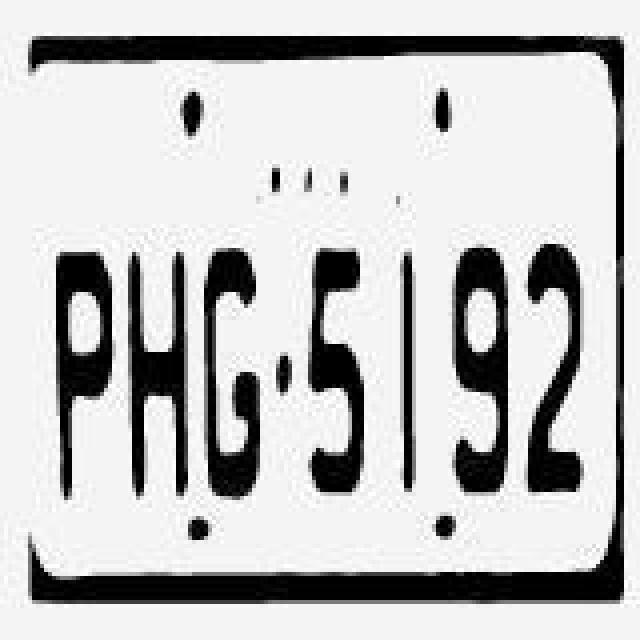1: (380, 238, 436, 498)
2: (518, 234, 586, 502)
5: (298, 238, 374, 490)
9: (444, 230, 516, 498)
G: (192, 240, 272, 512)
H: (124, 234, 196, 502)
P: (38, 240, 122, 512)
